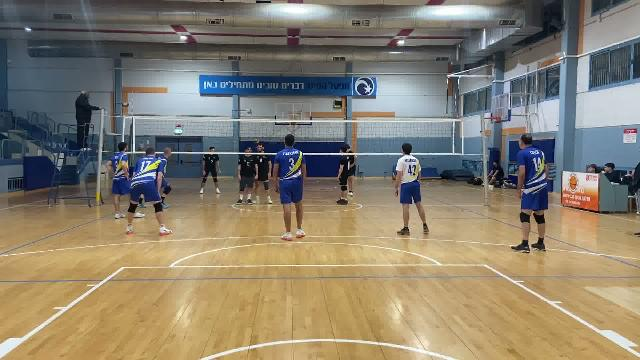ball: (253, 138, 263, 147)
